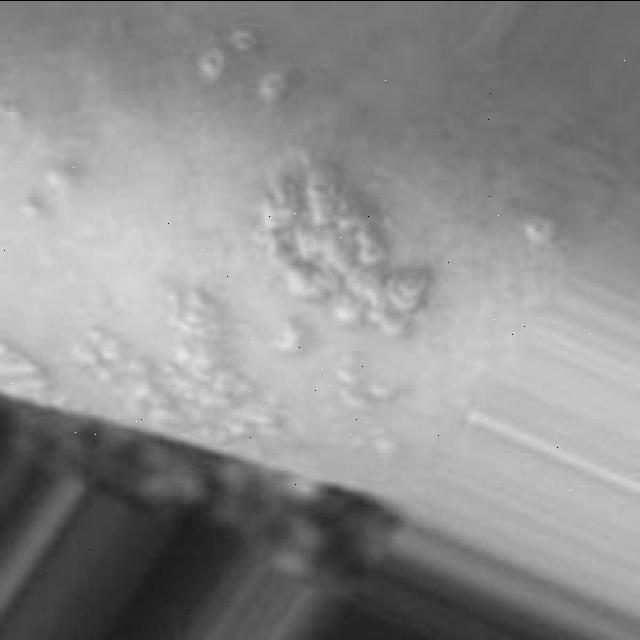Shingles: (56, 284, 293, 460), (258, 142, 434, 337), (321, 346, 413, 475), (194, 22, 281, 105), (0, 334, 67, 418), (522, 214, 564, 244)
